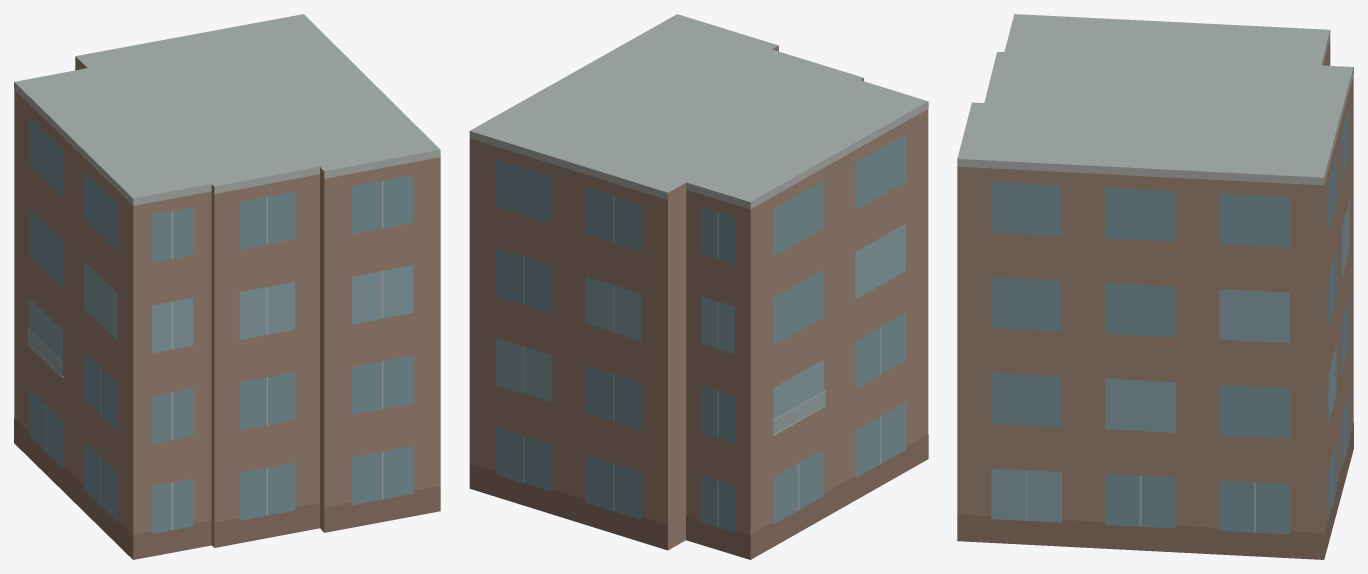
The model's file is survey-upis-32916676.glb.
The picture shows the model from 3 angles, left to right: view 1: azimuth 30°, elevation 25°; view 2: azimuth 150°, elevation 25°; view 3: azimuth 270°, elevation 25°; orthographic projection. The views are drawn at different scales.
Parts seen in each view (by area): view 1: survey-upis-32916676.tmp; view 2: survey-upis-32916676.tmp; view 3: survey-upis-32916676.tmp.
Part boxes in pixels (bbox=[...]): survey-upis-32916676.tmp: bbox=[14, 14, 440, 559]; survey-upis-32916676.tmp: bbox=[469, 14, 928, 559]; survey-upis-32916676.tmp: bbox=[957, 14, 1353, 559].
Bounding box in the file's own units: 10.98 × 11.95 × 11.24.
